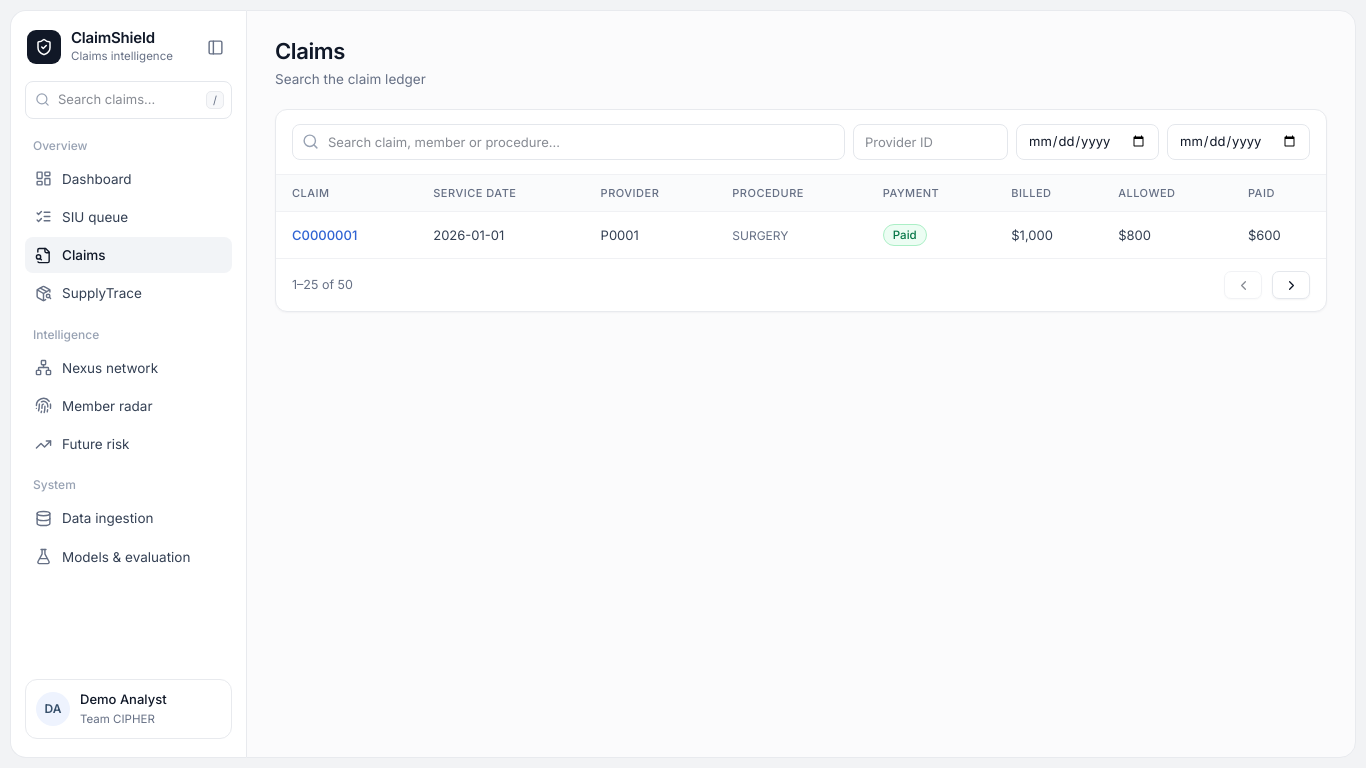
Investigator console › requests the next claims page
Expected: the text "C0000001" is shown, top-left (292, 226), bottom-right (357, 245)
Click the button named "Next page": (1291, 285) top-left (1272, 271), bottom-right (1310, 299)
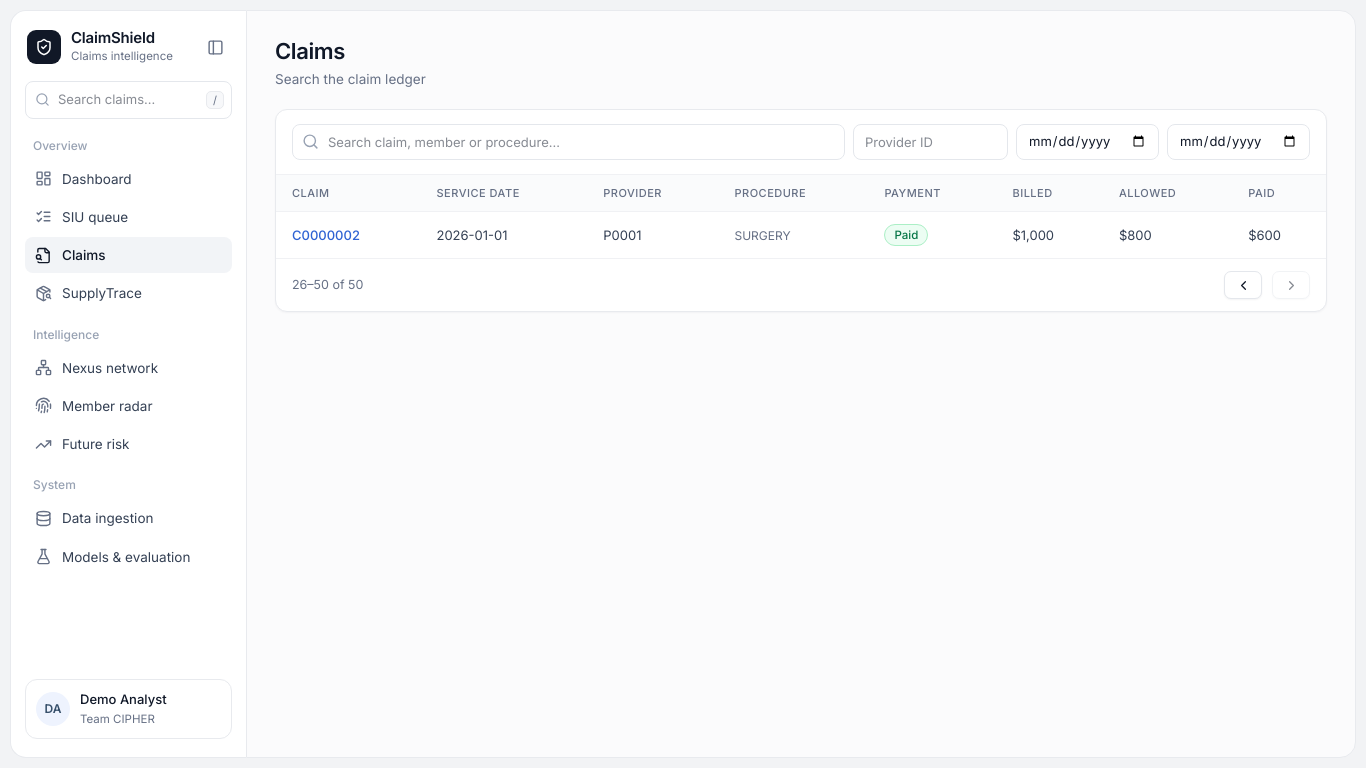
Result: the text "C0000002" is shown at top-left (292, 226), bottom-right (360, 245)
